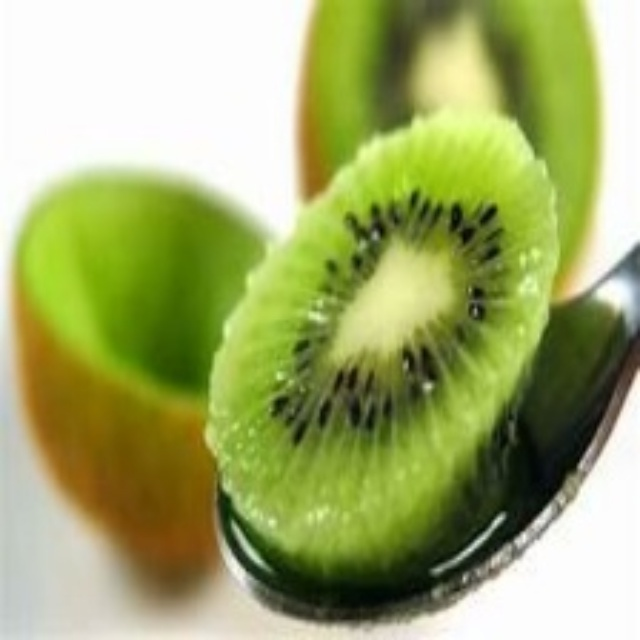kiwi: (206, 132, 517, 582)
